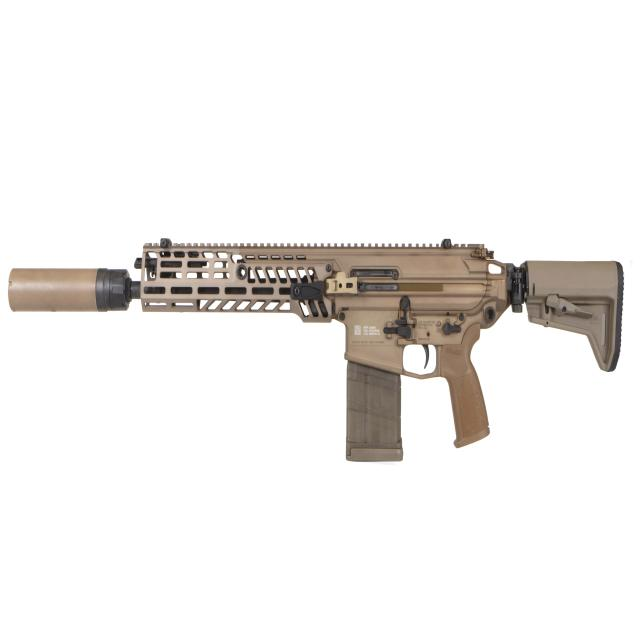Rifle: (8, 240, 626, 464)
